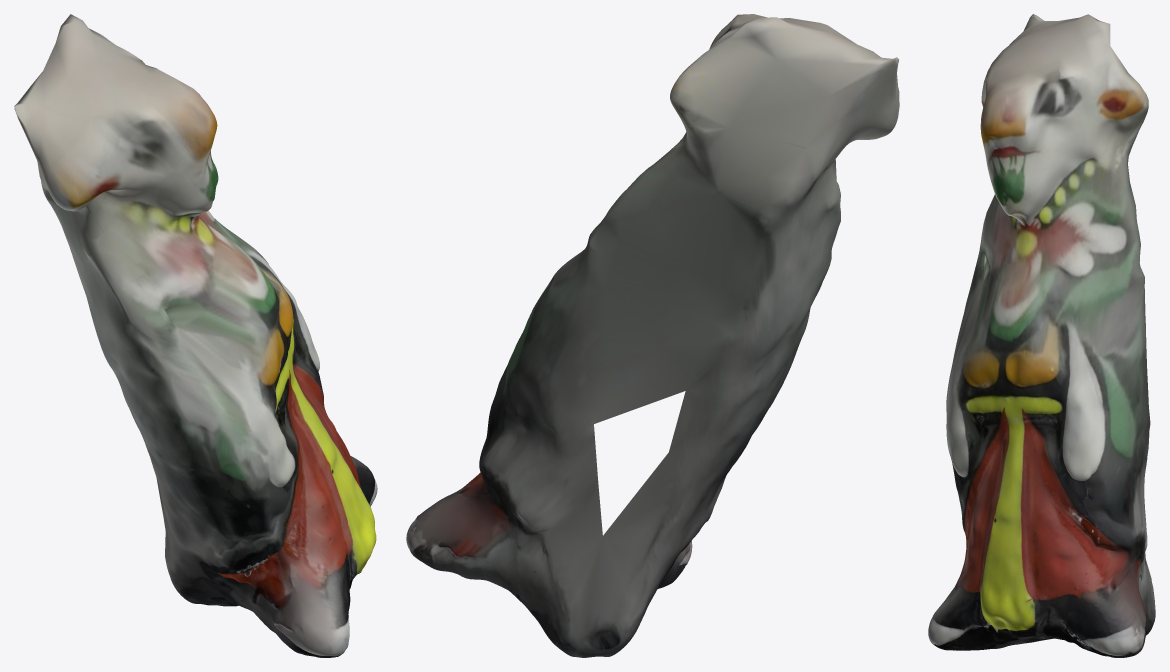
3 views of the same model, side by side, from view 1: azimuth 30°, elevation 25°; view 2: azimuth 150°, elevation 25°; view 3: azimuth 270°, elevation 25° (orthographic). The views are drawn at different scales.
Bounding box in the file's own units: 0.7969 × 1.16 × 0.4299.
Materials: 1 (1 with a texture image).
